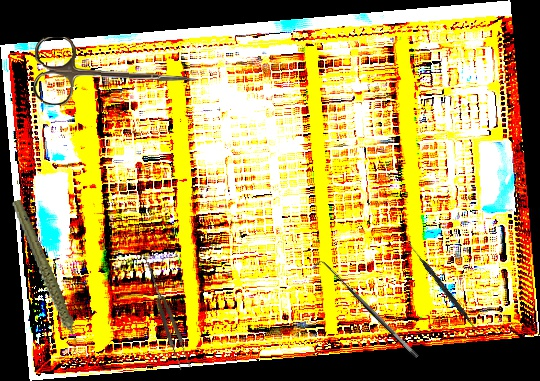Handpiece: (10, 194, 81, 359)
Hook Surgical: (311, 255, 421, 367)
Iris Scissors: (32, 36, 198, 110)
Spatula Surgical: (404, 240, 482, 334)
Tissue Forceps: (141, 259, 193, 372)
